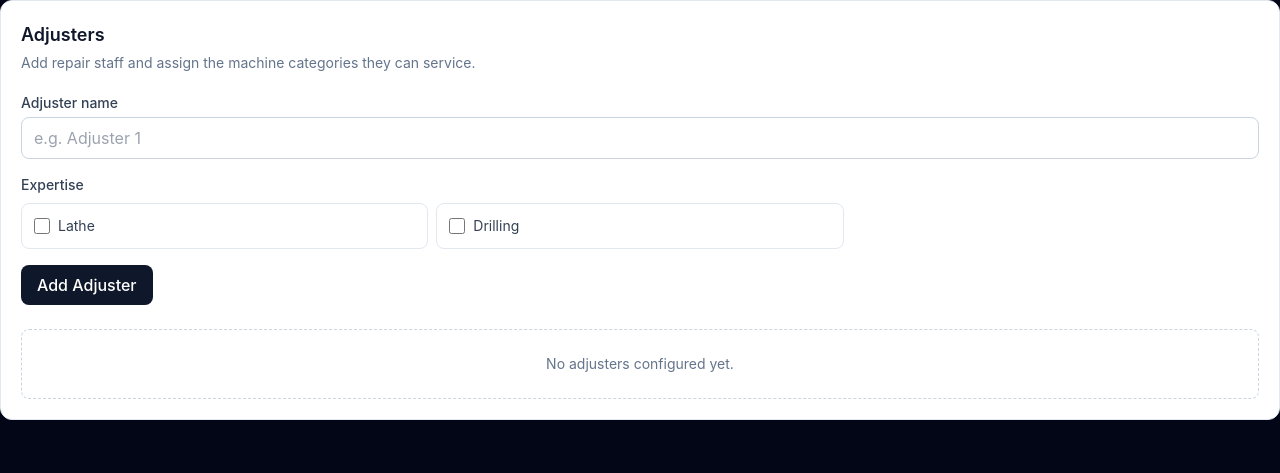
Test: AdjusterForm › requires expertise
The width and height of the screenshot is (1280, 473).
Type "Adjuster 1" into the field labelled "Adjuster name" at (640, 138), box x1=21 y1=117 x2=1259 y2=159
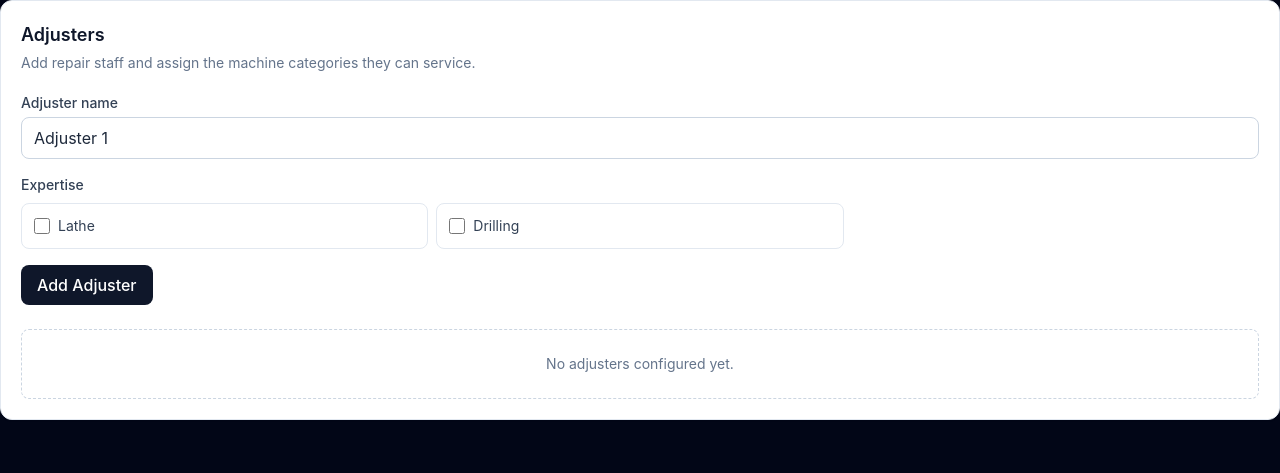
Click the button "Add Adjuster" at (87, 285), box x1=21 y1=265 x2=152 y2=305
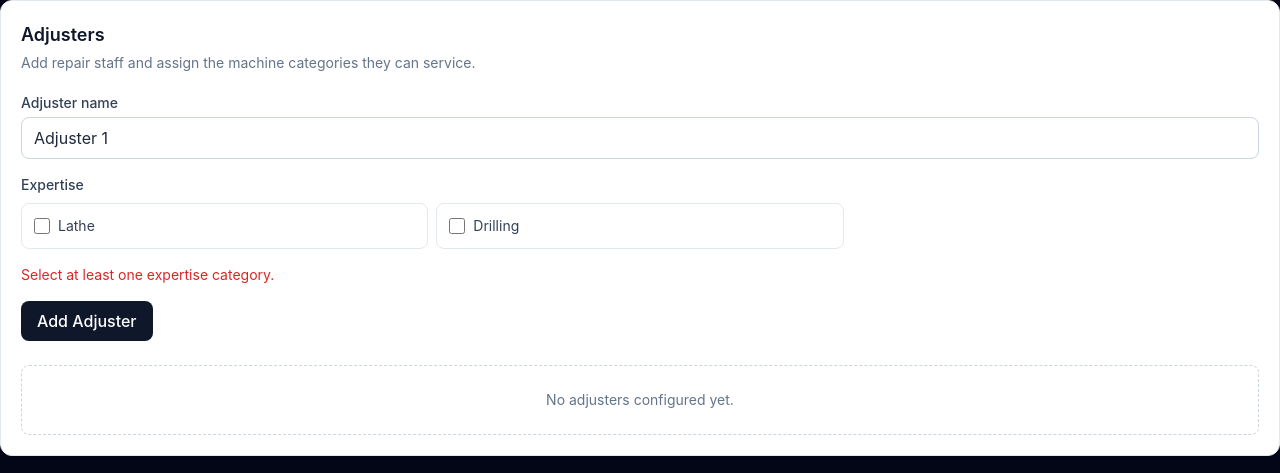
Result: the text "Select at least one expertise category." is shown at x1=21 y1=266 x2=274 y2=283
